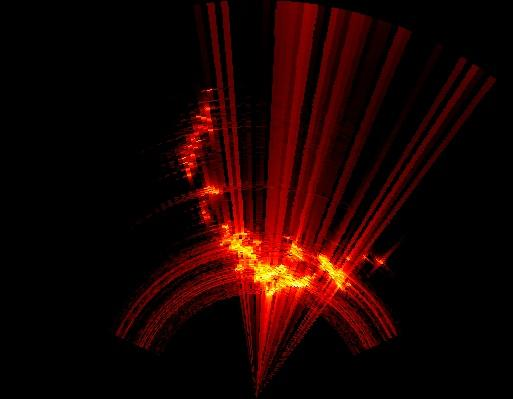shipwreck: (204, 180, 311, 293), (291, 244, 346, 290), (184, 101, 213, 175)
